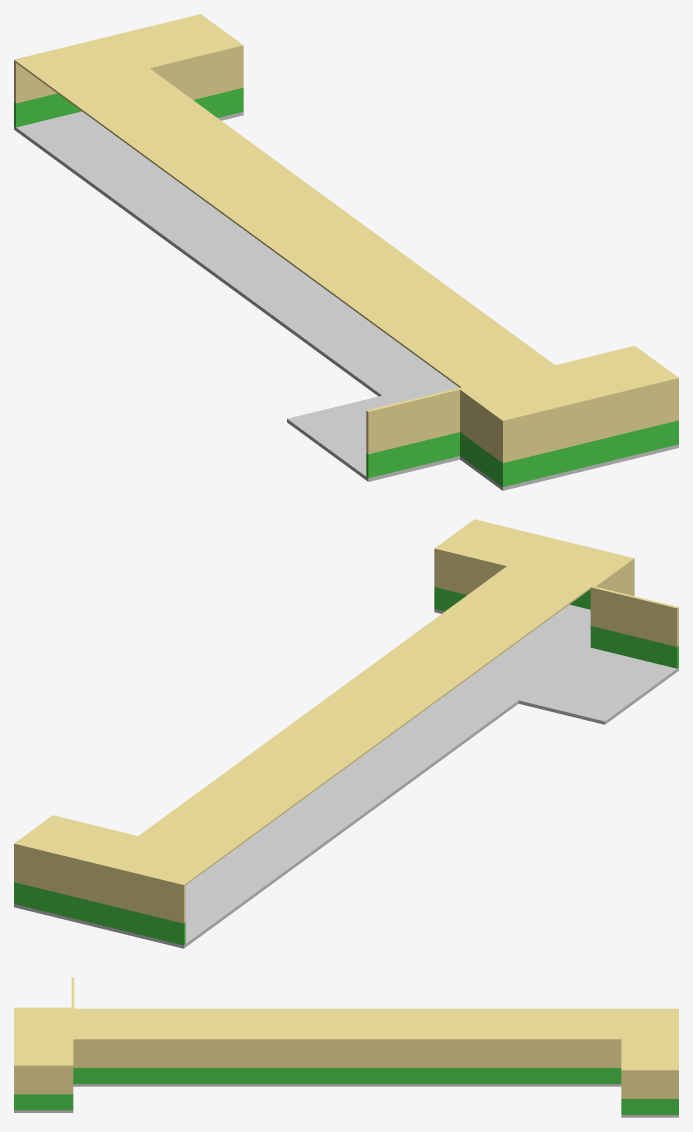
Rendered from interior_school_room_east_02.fbx.
3 views of the same model, one above another, from view 1: azimuth 30°, elevation 25°; view 2: azimuth 150°, elevation 25°; view 3: azimuth 270°, elevation 25° (orthographic). The views are drawn at different scales.
Visible parts, largest first — view 1: Visible Mesh; view 2: Visible Mesh; view 3: Visible Mesh.
Part boxes in pixels (box(x1,y1,x2,y2)): Visible Mesh: box(14, 14, 678, 490); Visible Mesh: box(14, 519, 678, 948); Visible Mesh: box(14, 977, 678, 1117).
Size of the model in its own units: 1601 by 380 by 4840.
